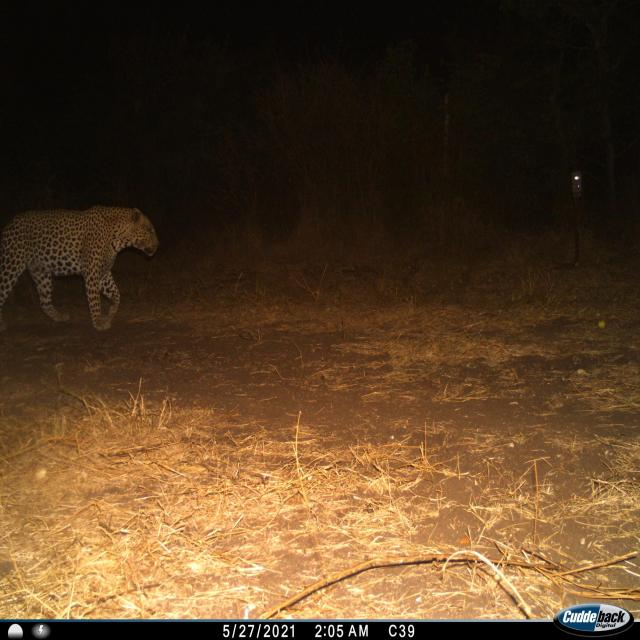Leopard: (0, 194, 168, 341)
